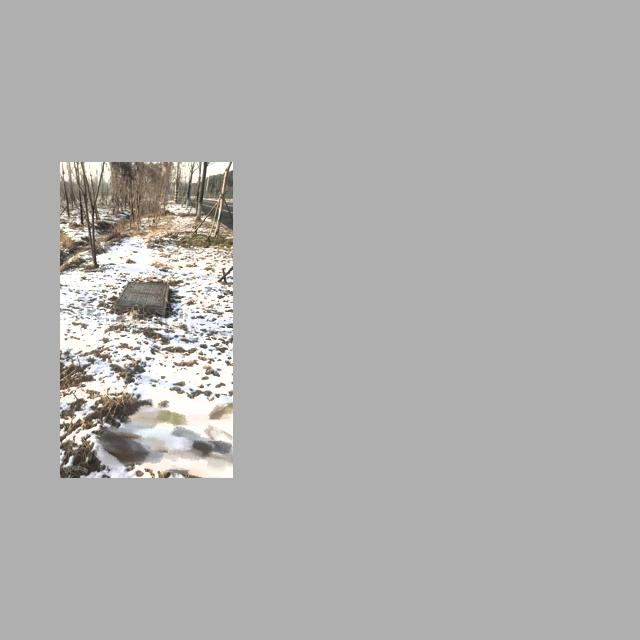circle: (110, 281, 172, 319)
